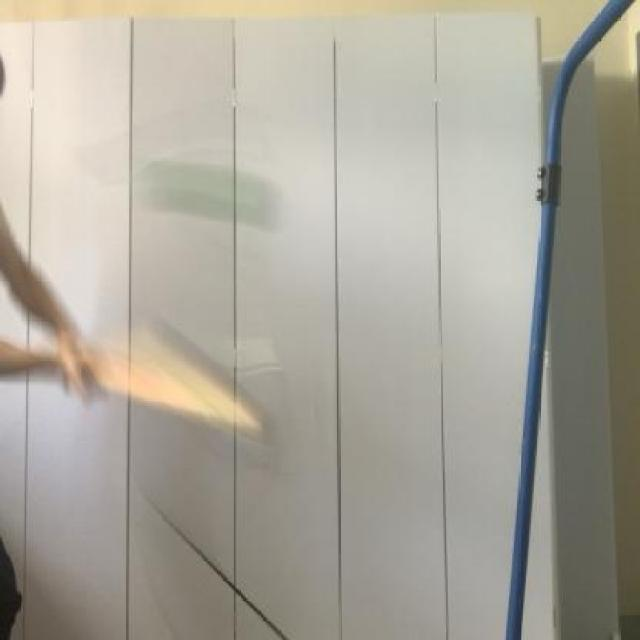baseball: (139, 136, 293, 244)
